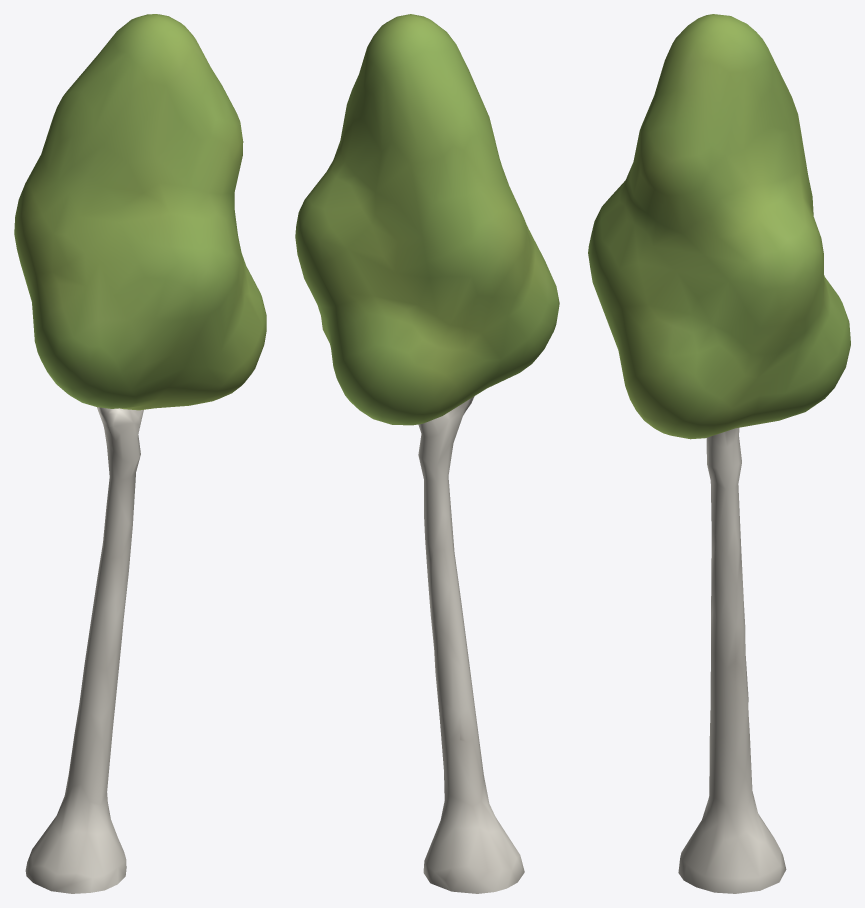
The model's file is birch_fast.glb.
The picture shows the model from 3 angles, left to right: view 1: azimuth 30°, elevation 25°; view 2: azimuth 150°, elevation 25°; view 3: azimuth 270°, elevation 25°; orthographic projection. The views are drawn at different scales.
Visible parts, largest first — view 1: birch_crown, body; view 2: birch_crown, body; view 3: birch_crown, body.
Part boxes in pixels (x1,y1,x2,y2): birch_crown: (14,14,266,410); body: (25,407,143,893); birch_crown: (295,14,559,425); body: (418,396,524,893); birch_crown: (588,14,850,439); body: (678,428,786,893).
Size of the model in its own units: 1.83 by 6.77 by 1.81.
